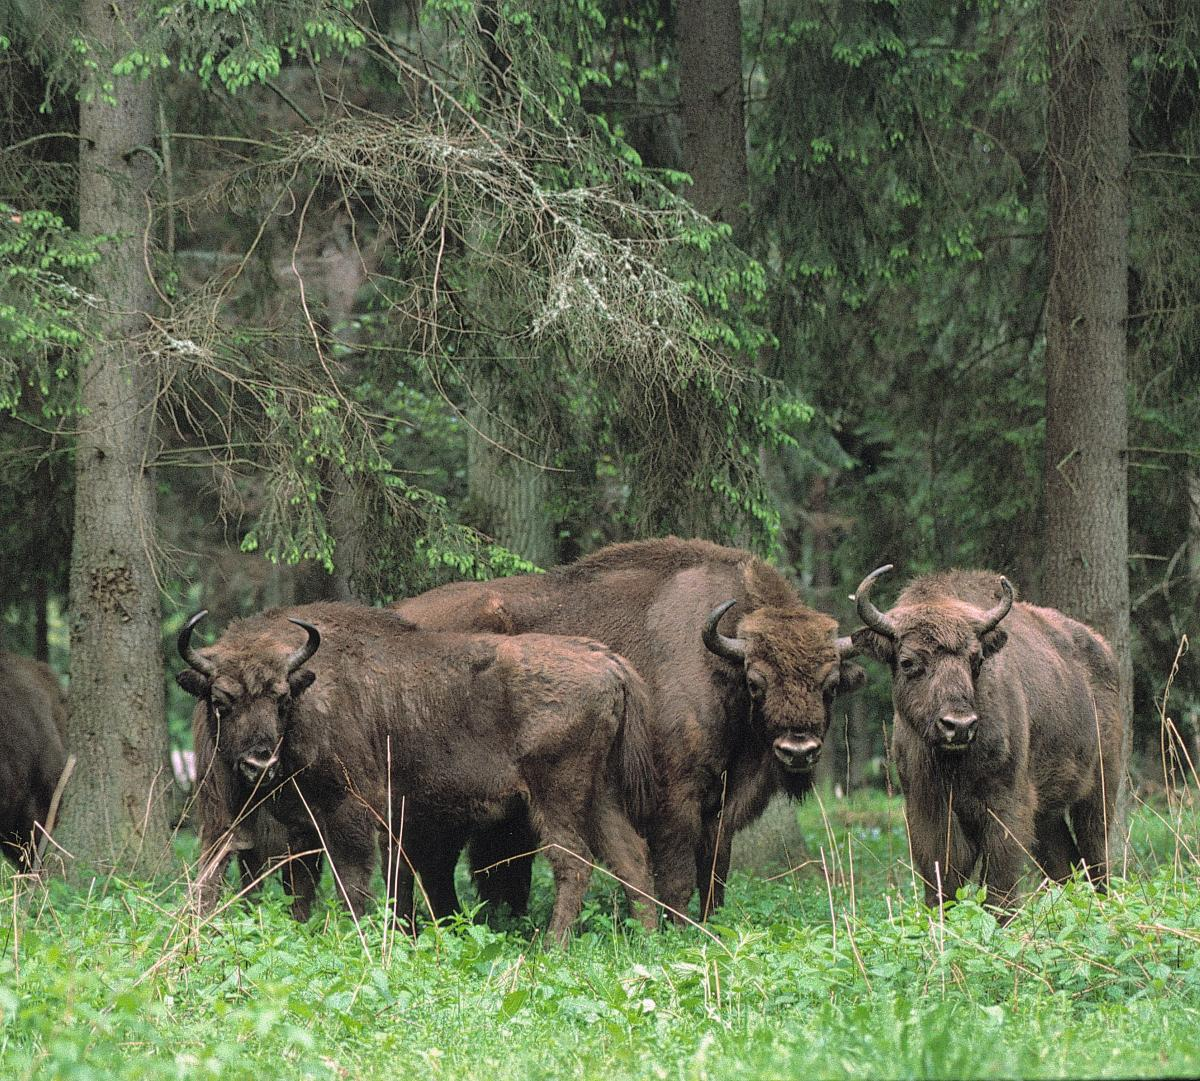zubr: (160, 600, 671, 950), (871, 498, 1153, 916), (678, 539, 848, 893)
